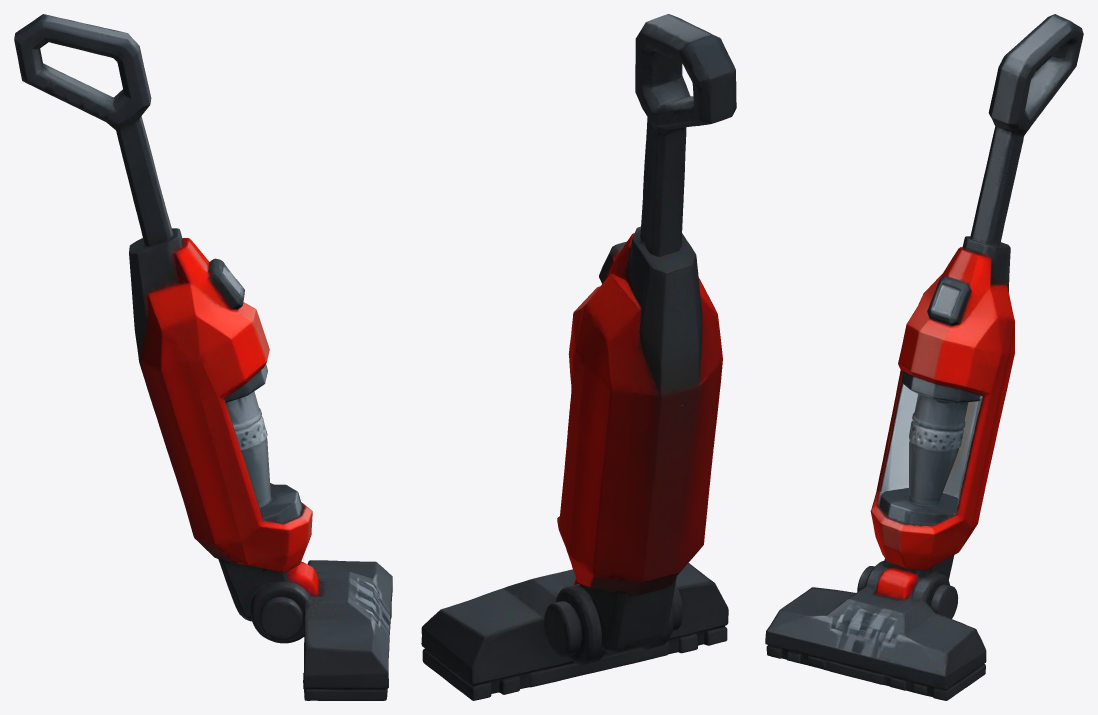
The model's file is Yardsweep-Vacuum.glb.
3 renders of one model, left to right at view 1: azimuth 30°, elevation 25°; view 2: azimuth 150°, elevation 25°; view 3: azimuth 270°, elevation 25°, orthographic. The views are drawn at different scales.
Visible parts, largest first — view 1: tripo_node_f4e048e0-9a07-43d6-a6db-e280e0eaae49; view 2: tripo_node_f4e048e0-9a07-43d6-a6db-e280e0eaae49; view 3: tripo_node_f4e048e0-9a07-43d6-a6db-e280e0eaae49.
Part boxes in pixels (bbox=[...]): tripo_node_f4e048e0-9a07-43d6-a6db-e280e0eaae49: bbox=[14, 14, 392, 700]; tripo_node_f4e048e0-9a07-43d6-a6db-e280e0eaae49: bbox=[421, 14, 736, 700]; tripo_node_f4e048e0-9a07-43d6-a6db-e280e0eaae49: bbox=[765, 14, 1083, 700].
Size of the model in its own units: 0.533 by 1 by 0.5164.
1 material, 1 textured.
